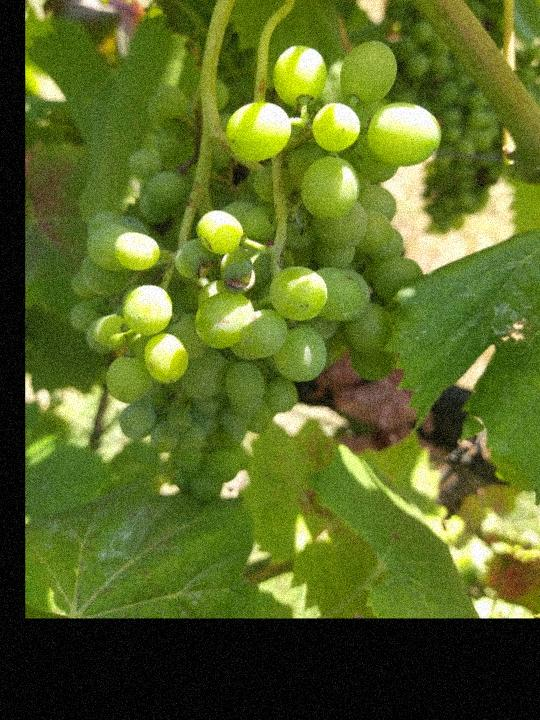grape: (67, 36, 446, 504)
